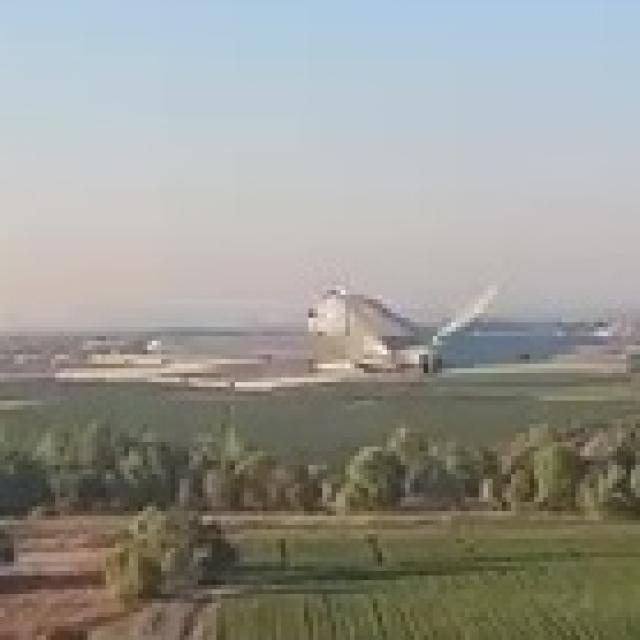iha: (143, 251, 506, 398)
